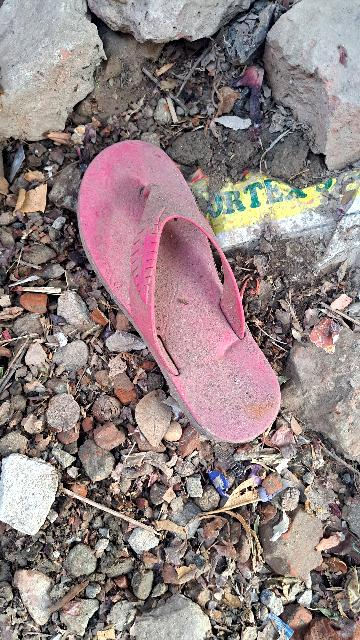sandal: (41, 103, 323, 493)
